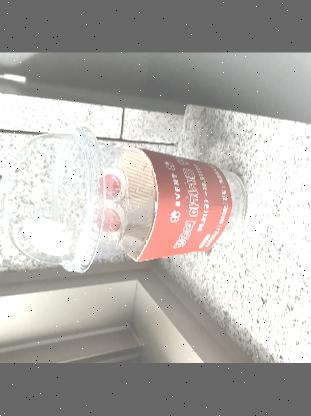Others: (0, 125, 248, 273), (0, 122, 105, 276)
